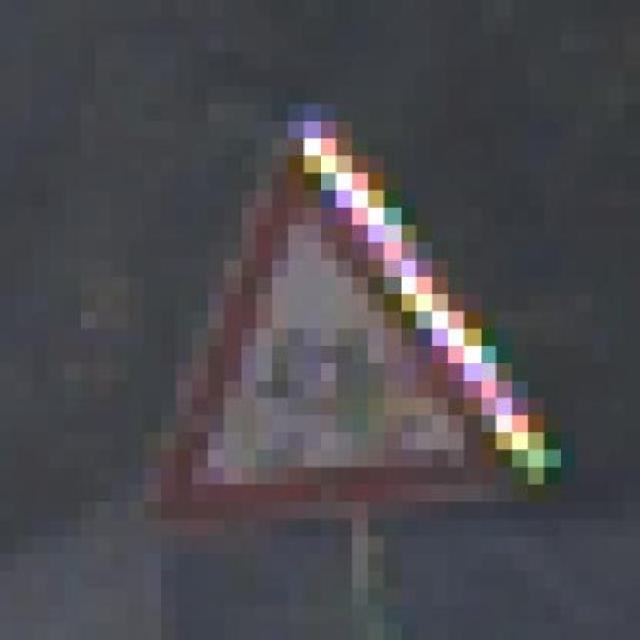CYCLE ROUTE AHEAD WARNING: (144, 121, 561, 553)
